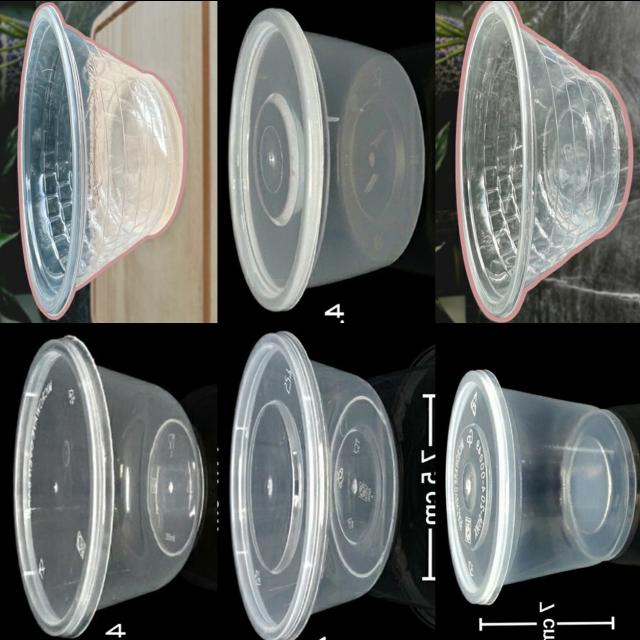plastik: (229, 8, 423, 310), (15, 335, 205, 636), (457, 0, 631, 321), (231, 331, 399, 640), (19, 3, 183, 317), (445, 368, 637, 603)
